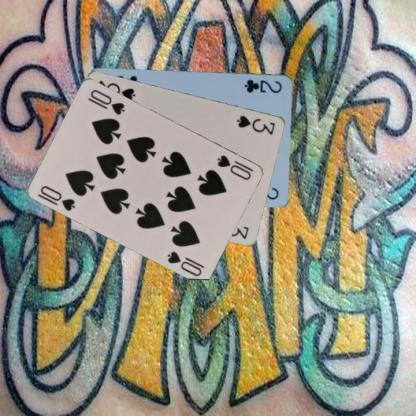10s: (214, 152, 256, 181), (38, 182, 77, 212)
2c: (242, 76, 283, 94)
3s: (234, 112, 276, 136)
